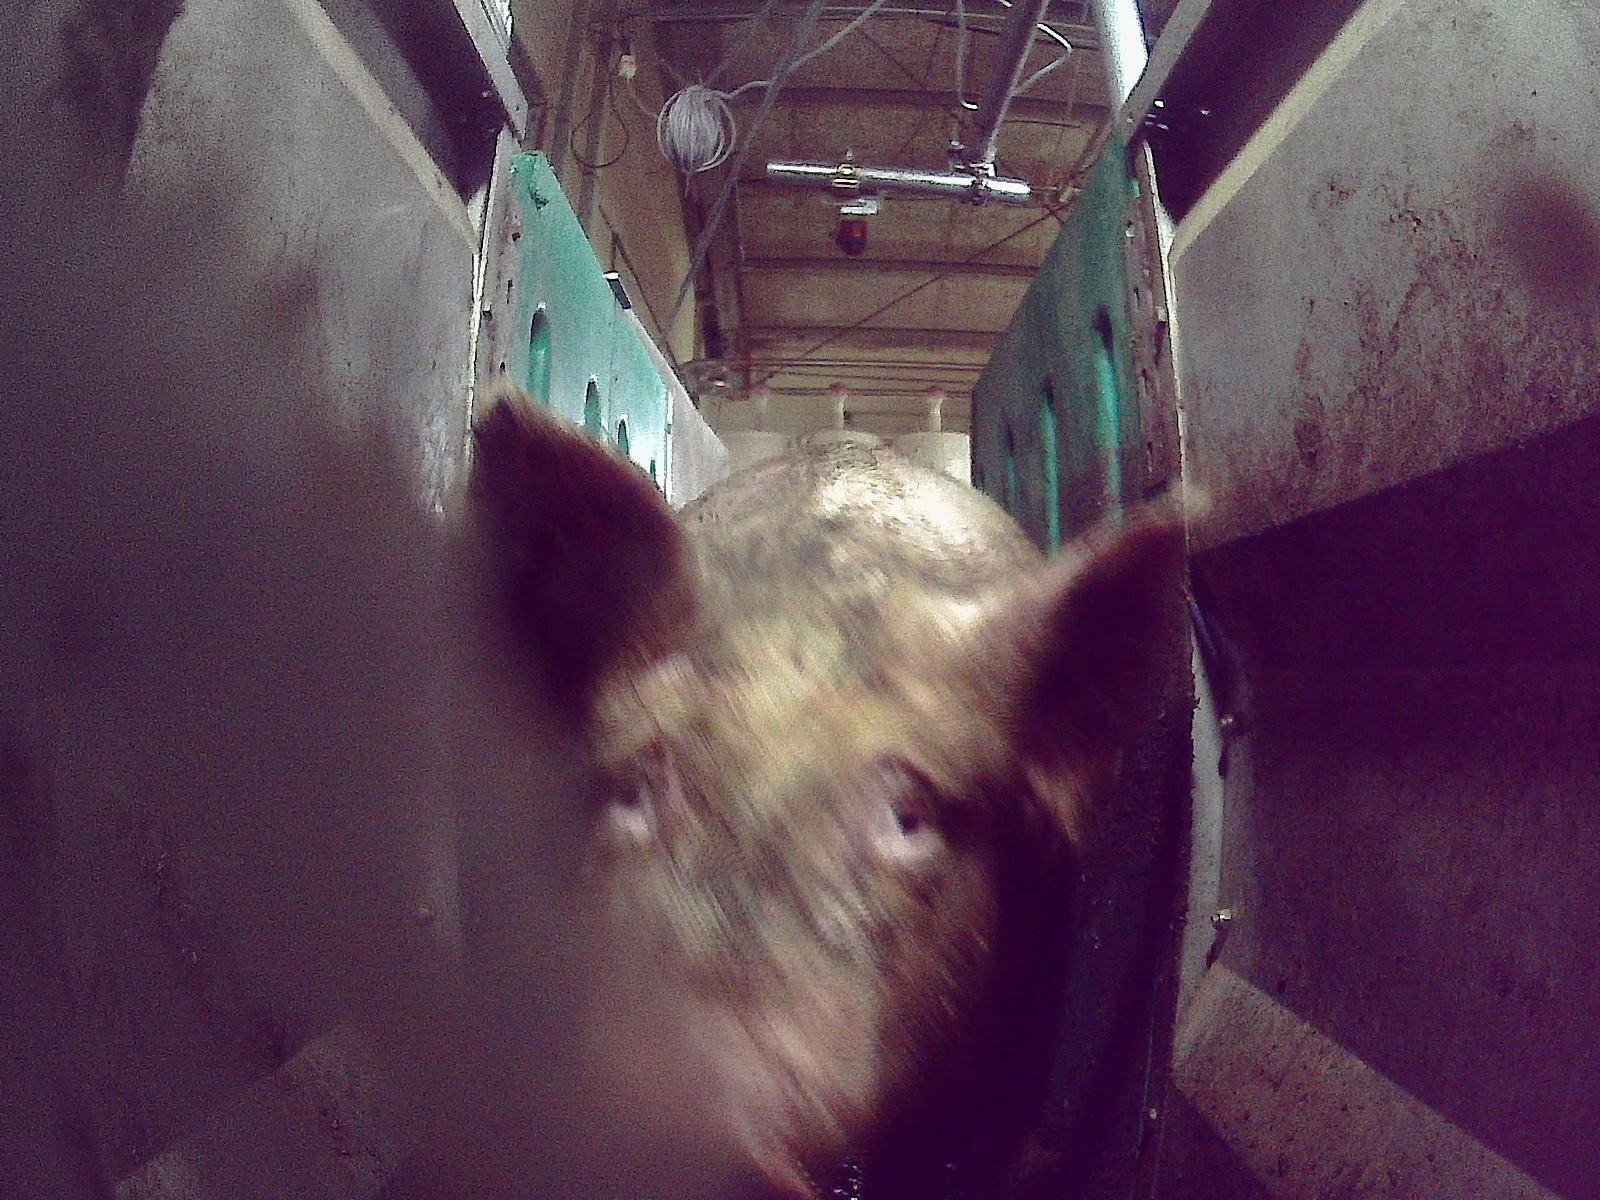Face: (532, 572, 1020, 1199)
